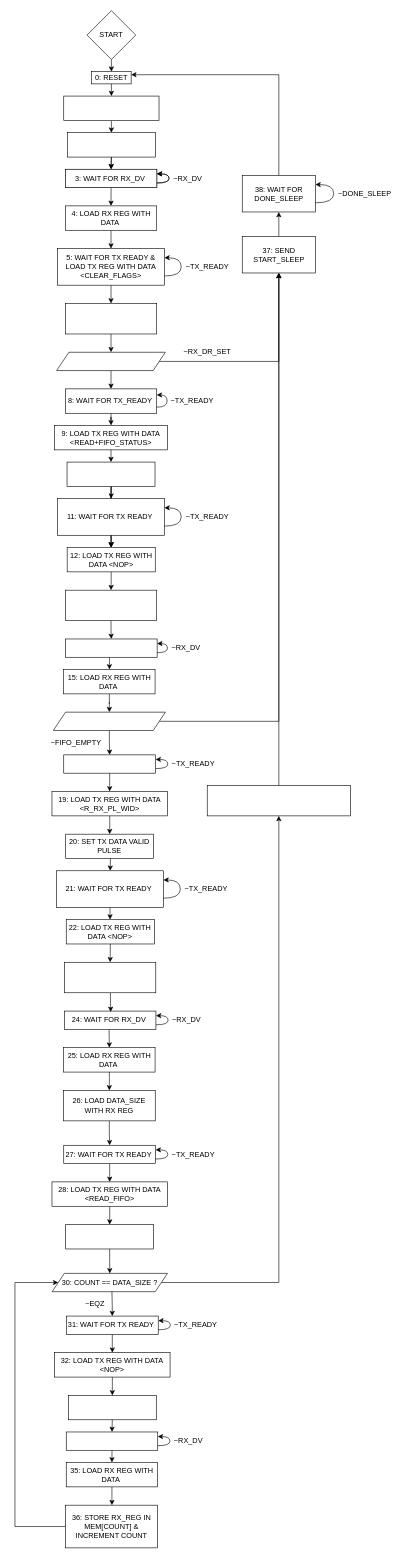
Some shapes in this 406 by 1559 pixel diagram are drawn without their labels. The centre of each missing label's shape, as x and y in pixels:
10: SET TX DATA VALID PULSE: (110,473)
13: SET TX_DATA VALID PULSE: (111,605)
14: WAIT FOR RX_DV: (111,647)
16: CHECK IF FIFO EMPTY: (109,721)
17: OUTPUT MEM[5:0]: (278,800)
18: WAIT FOR TX READY: (109,763)
1: LOAD TX REG WITH DATA <WRITE+STATUS>: (111,107)
23: SET TX_DATA VALID PULSE: (110,977)
29: SET TX DATA VALID PULSE: (109,1236)
2: SET TX DATA VALID PULSE: (111,144)
33: SET TX DATA VALID PULSE: (112,1407)
34: WAIT FOR RX_DV: (112,1440)
6: SET TX_DATA VALID PULSE: (111,318)
7: CHECK IF RX_DR SET: (110,361)
